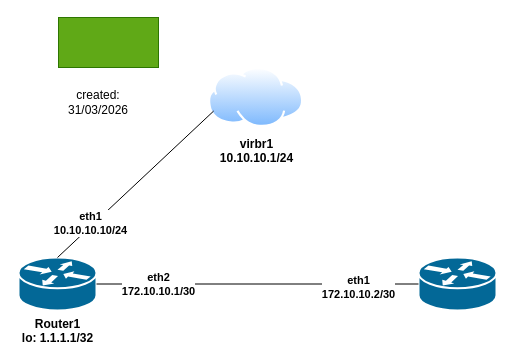
The diagram is 514 pixels wide and 364 high, and some of its shapes have lost their labels. Each missing label, with the centre of its shape:
"IP-IP" belongs at (108,42).
"Router2 lo:2.2.2.2/32" belongs at (457,283).
